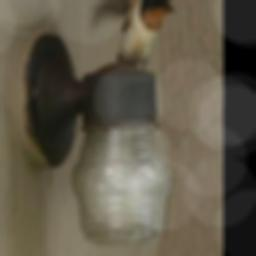Swallow: (89, 0, 175, 69)
